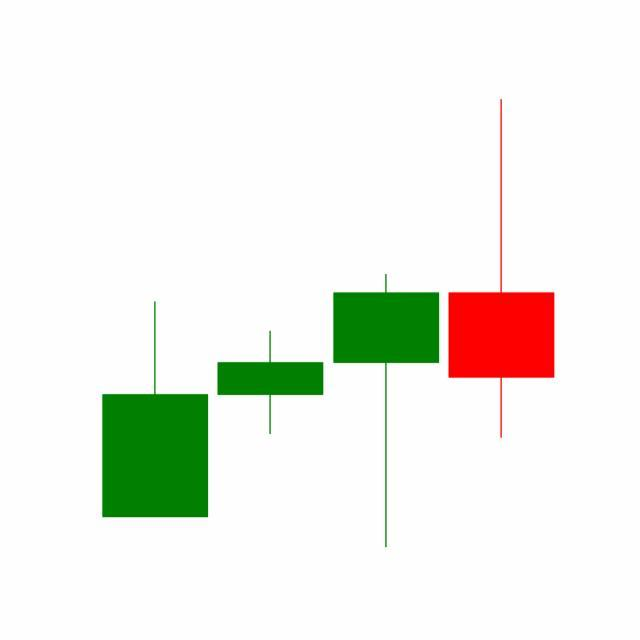Hanging Man: (329, 271, 445, 551)
